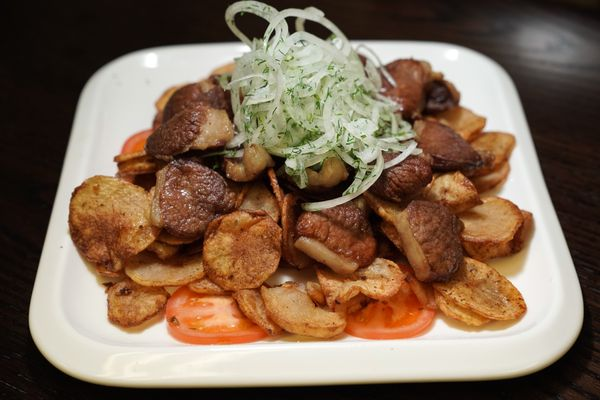curry: (4, 0, 590, 391)
